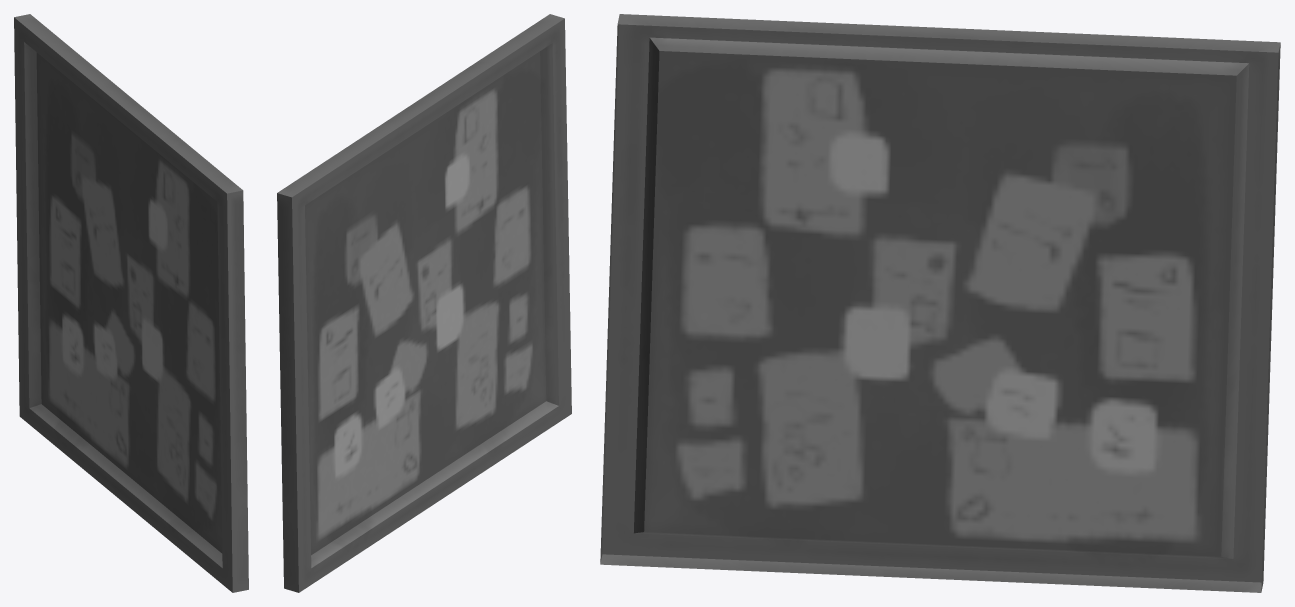
File: PostBoard.fbx
The picture shows the model from 3 angles, left to right: view 1: azimuth 30°, elevation 25°; view 2: azimuth 150°, elevation 25°; view 3: azimuth 270°, elevation 25°; orthographic projection. The views are drawn at different scales.
Visible parts, largest first — view 1: postBoard1; view 2: postBoard1; view 3: postBoard1.
Part boxes in pixels (x1,y1,x2,y2): postBoard1: (14,14,248,592); postBoard1: (277,14,571,592); postBoard1: (600,14,1280,592).
Bounding box in the file's own units: 0.6644 × 5.76 × 6.46.
